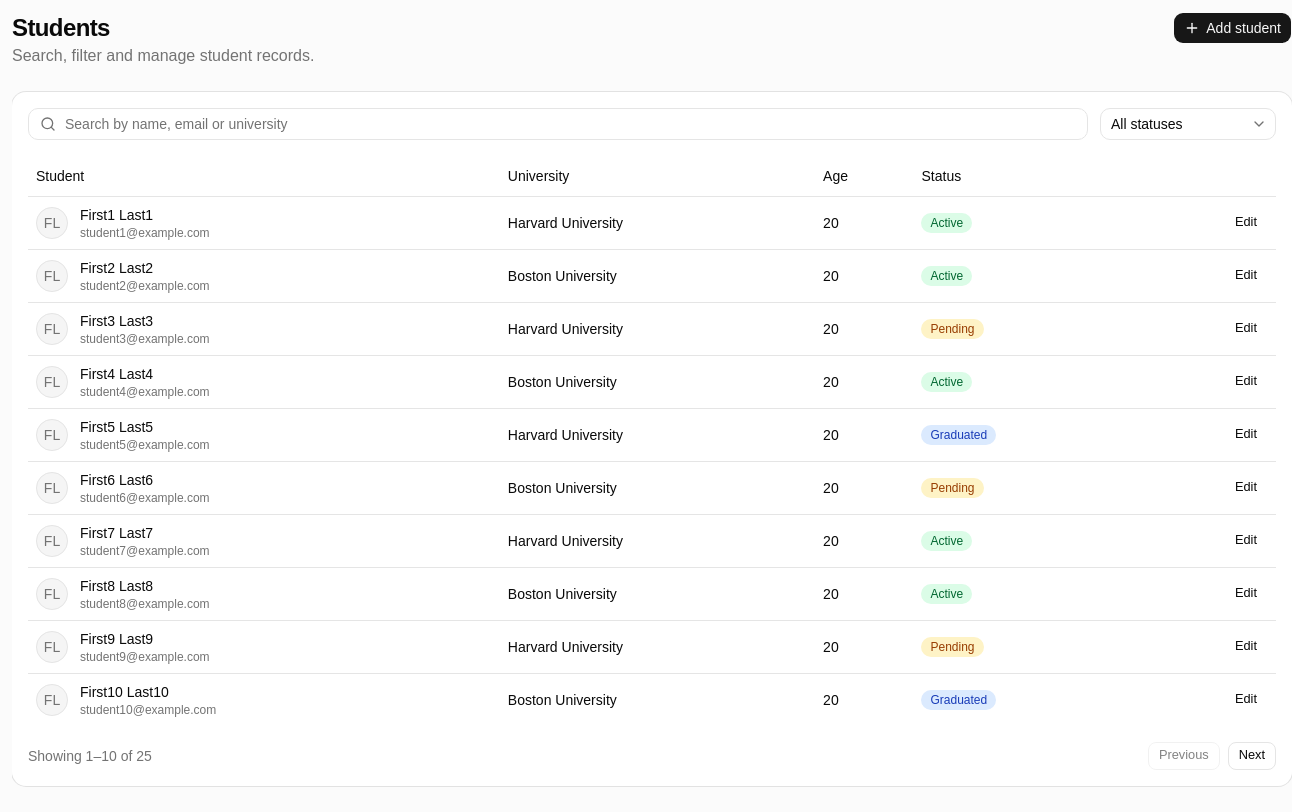
Test: StudentsPage › filters students by status
Click the dropdown named "Filter by status" at (1188, 124), box [1100,108,1276,140]
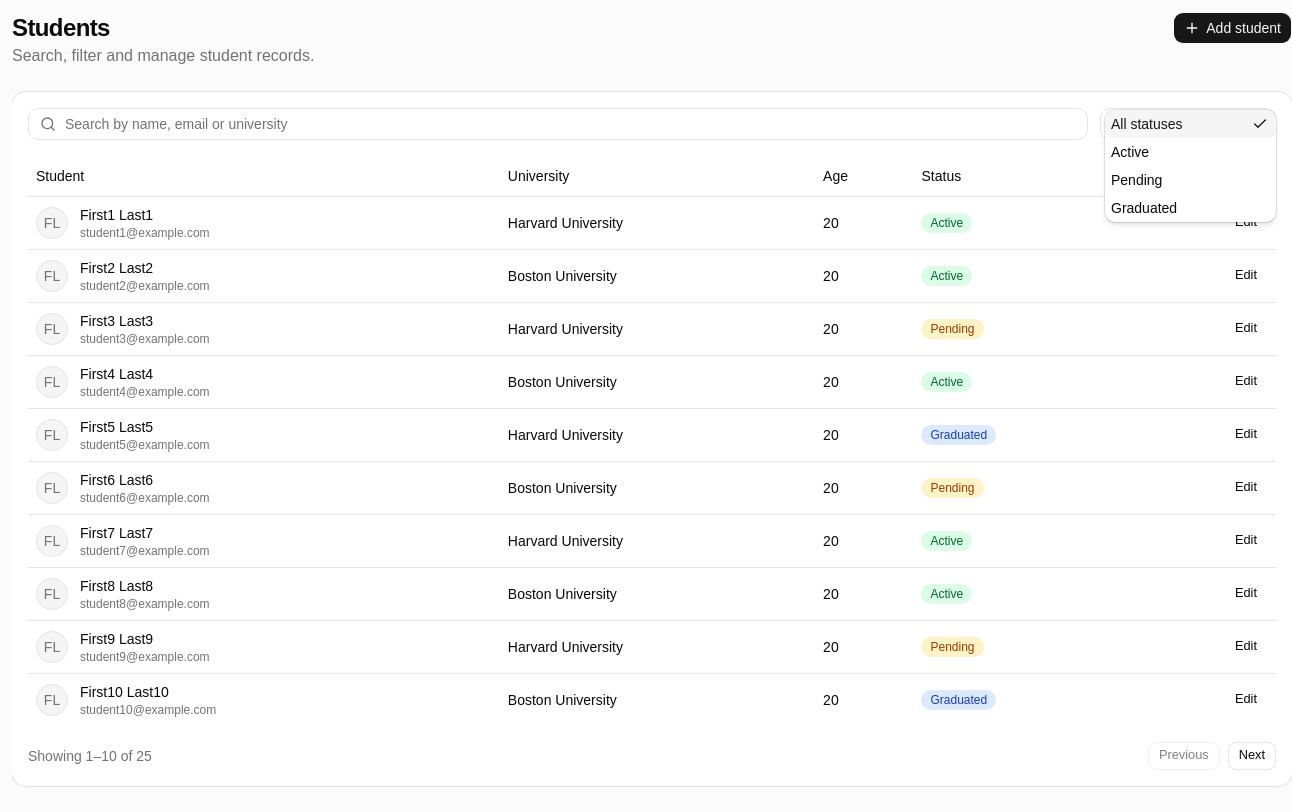
Click the option "Graduated" at (1144, 208), box [1111,200,1177,216]
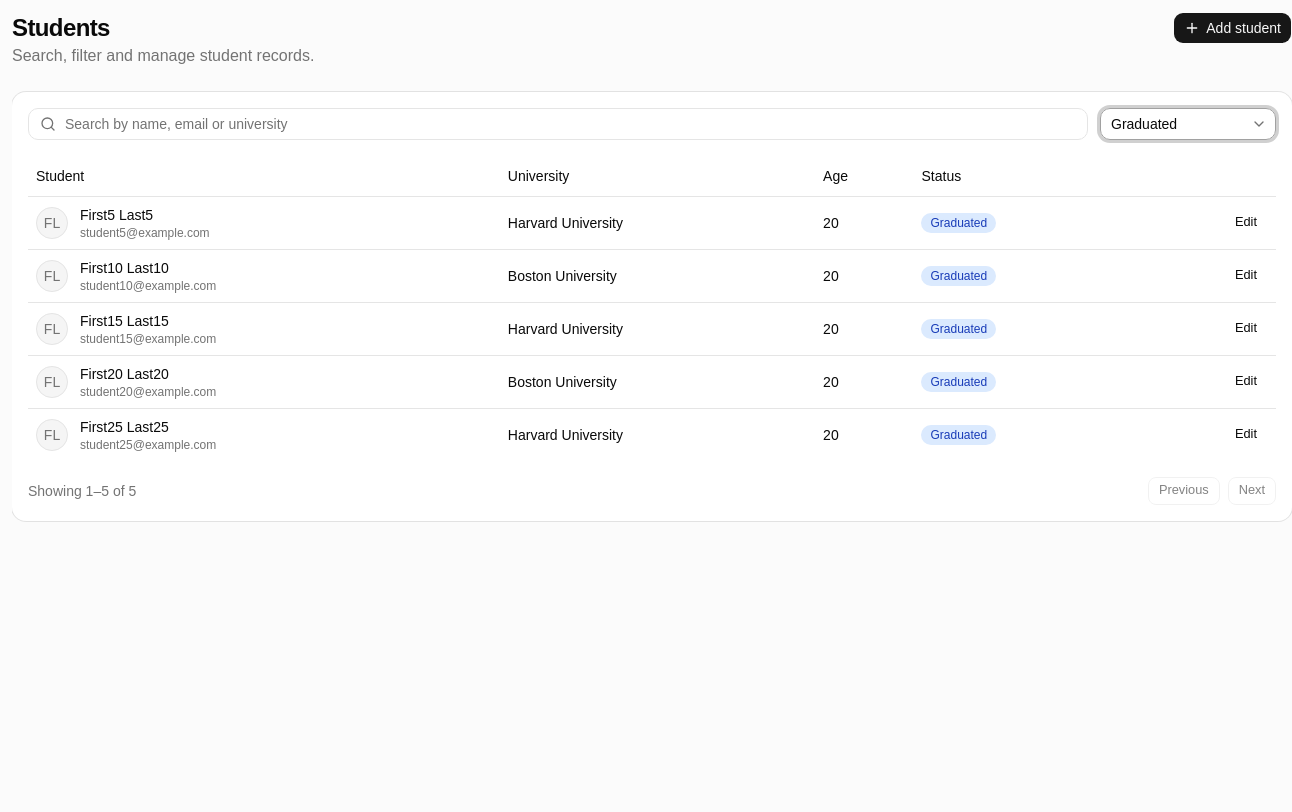
Result: the text "Showing 1–5 of 5" is shown at [28,480,136,500]
Result: the text "graduated" in the row of "First15" is shown at [930,322,987,336]
Result: the text "graduated" in the row of "First20" is shown at [930,375,987,389]
